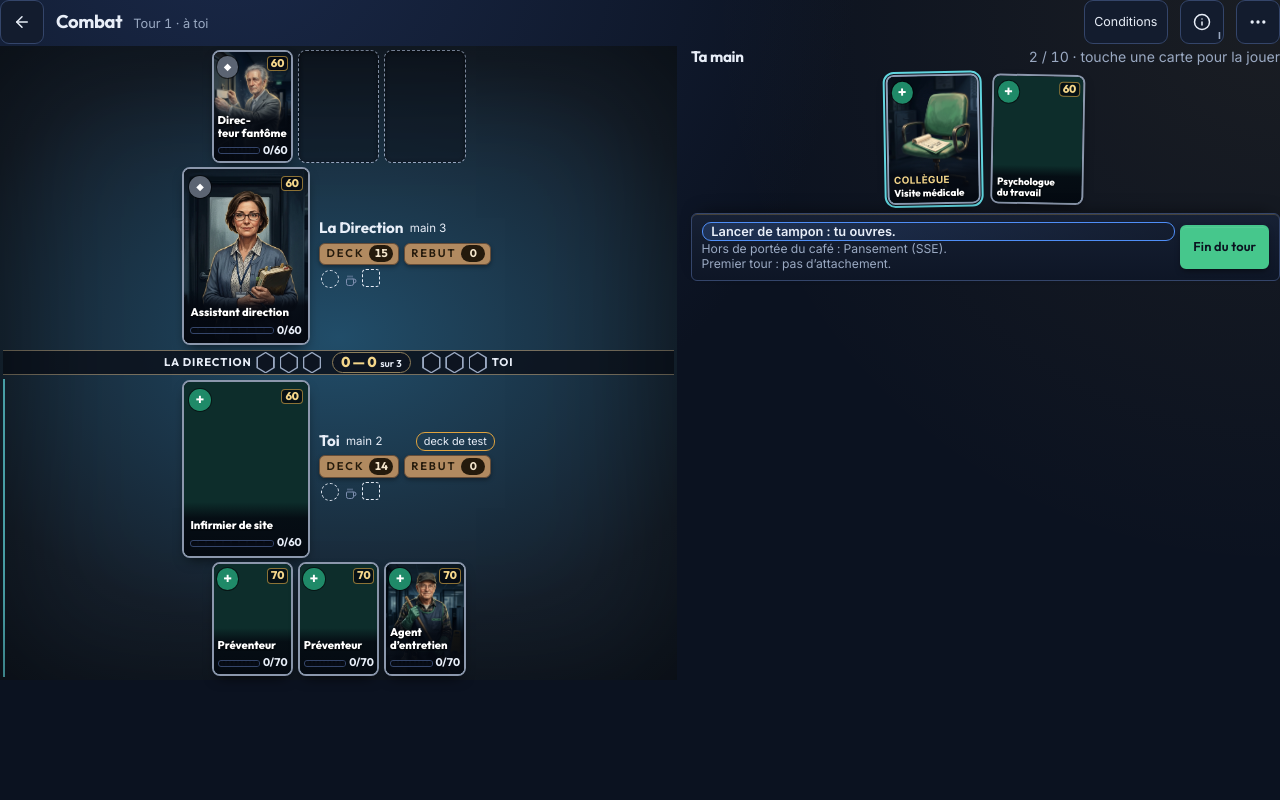
Test: Battle — écran de combat › ouvre le dialogue Règles depuis le menu, avec la règle de chaque Condition
Expected: the button "Règles" is not shown
Click the button named "Menu du combat": [1258, 22] box [1236,0,1279,44]
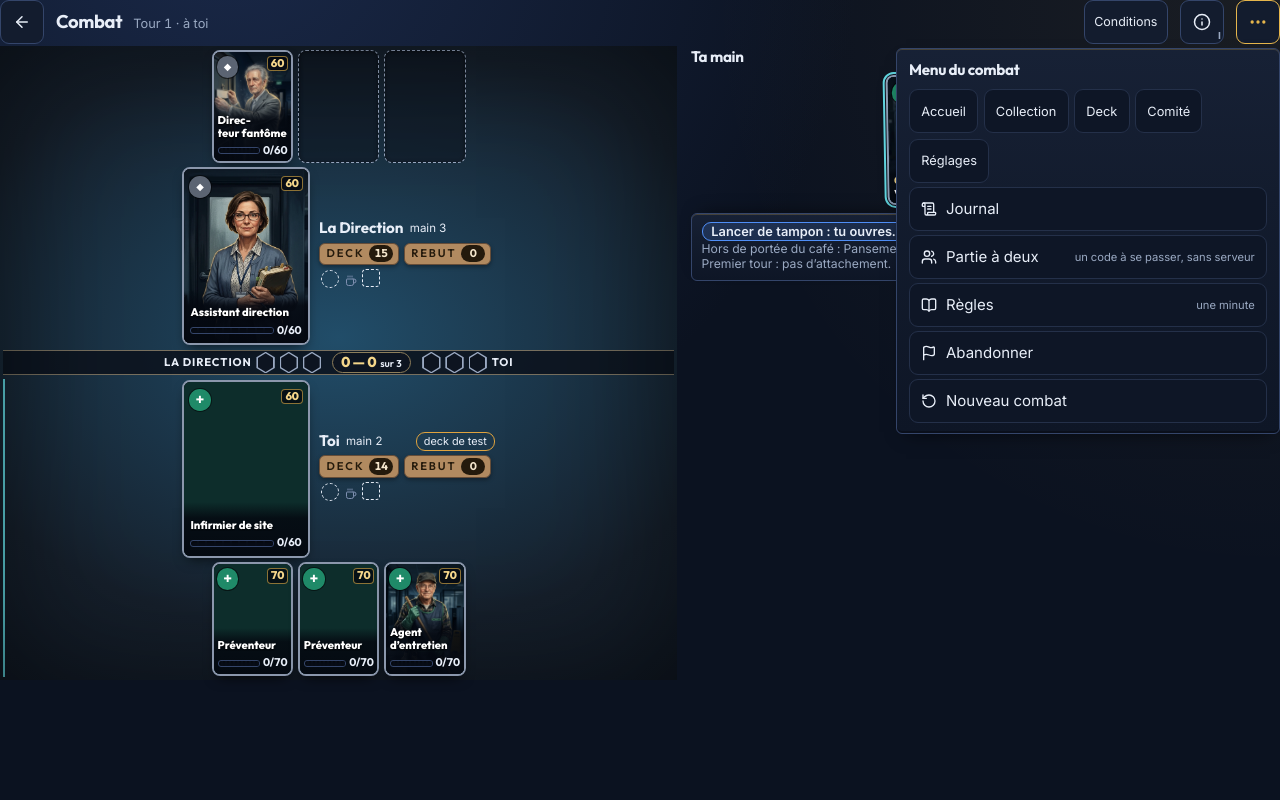
Click the button "Règles une minute": [970, 304] box [909,283,1267,327]
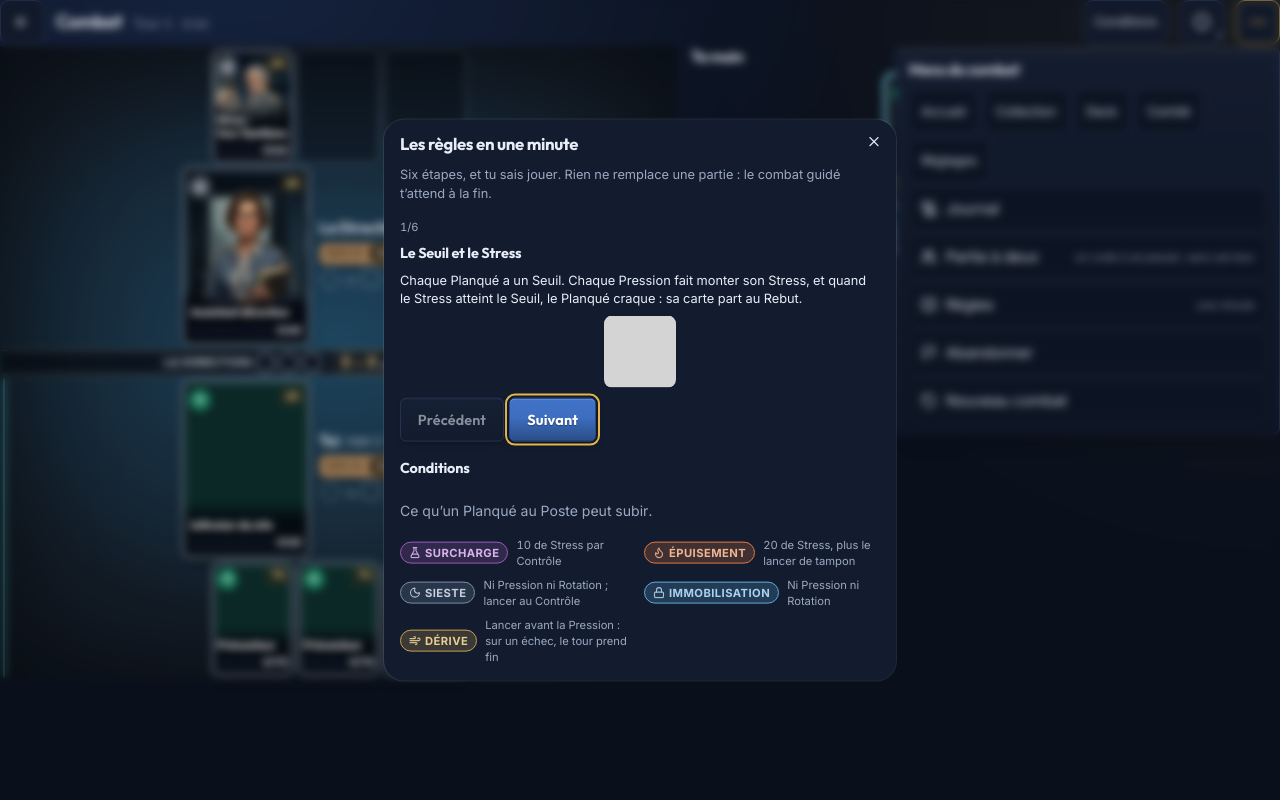
Expected: the dialog "règles en une minute" shows "10 de Stress par Contrôle", [516,537,604,567]
Expected: the dialog "règles en une minute" shows "ce qu.un Planqué au Poste peut subir", [400,501,652,518]
